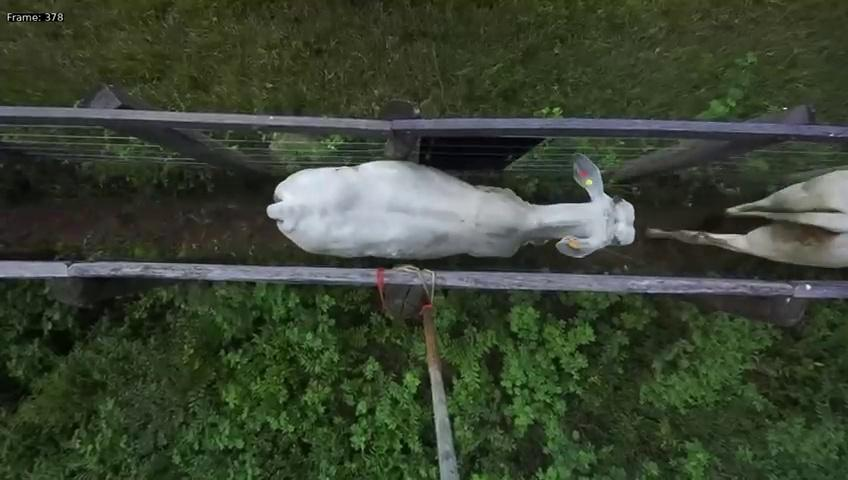cattle: (262, 127, 638, 263)
